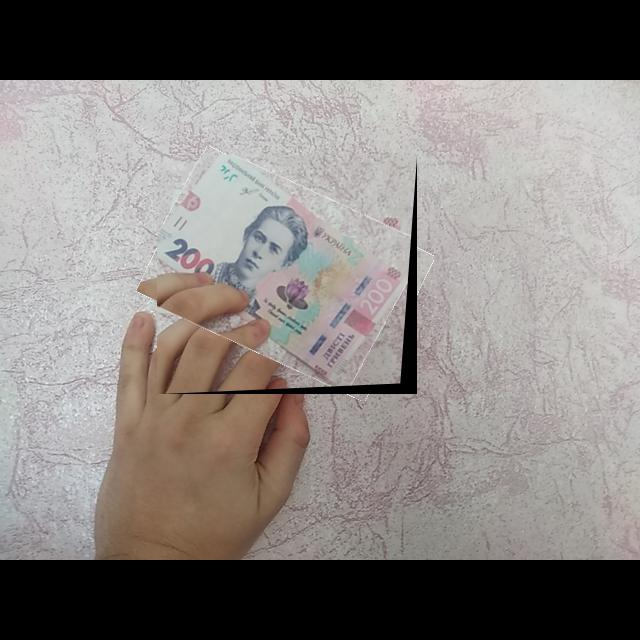200uah: (157, 155, 410, 389)
